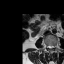CCS_stenosis: (49, 43, 51, 51)
LFS_normal: (53, 43, 55, 50)
LLS_normal: (51, 43, 53, 50)
RFS_normal: (45, 43, 47, 50)
RLS_normal: (47, 43, 49, 50)
